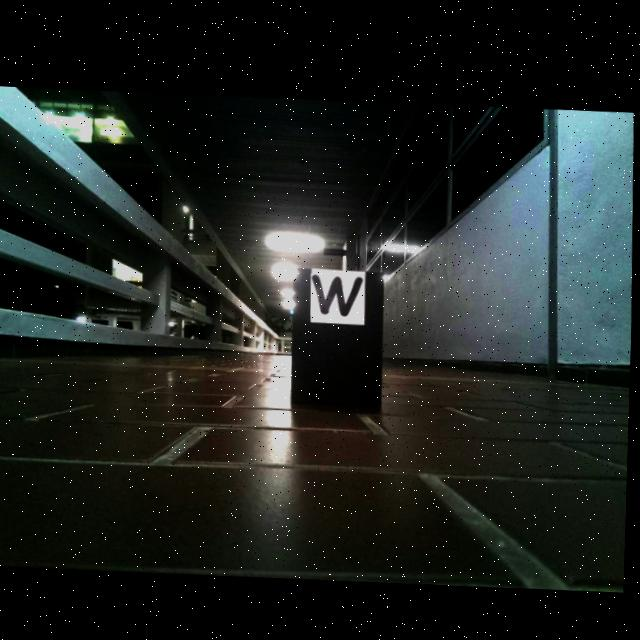W: (313, 270, 365, 312)
